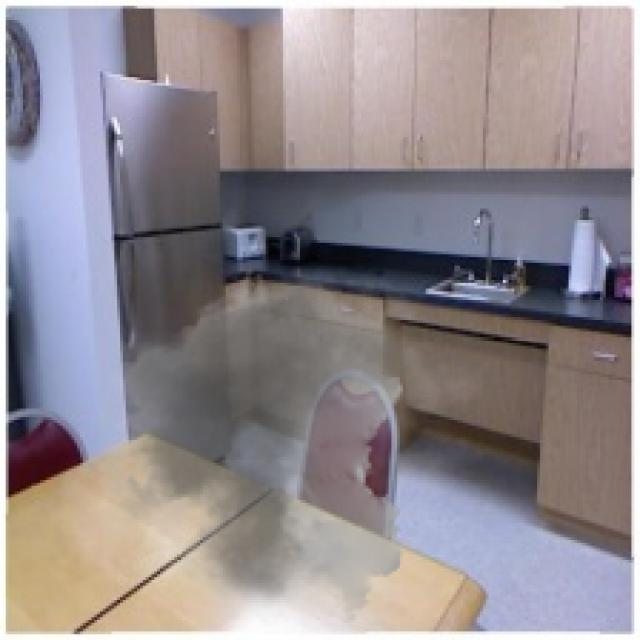smoke: (77, 255, 486, 634)
